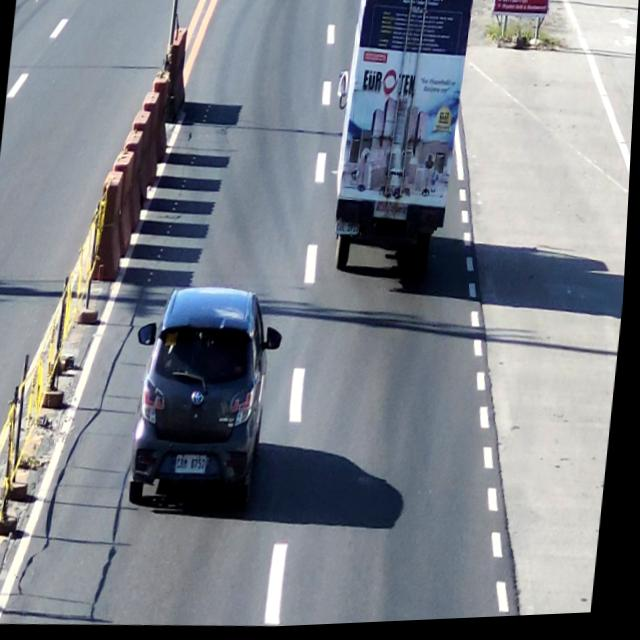Car: (133, 285, 279, 512)
License-Plate: (178, 453, 215, 483), (335, 221, 364, 245)
Truck: (332, 0, 471, 287)
